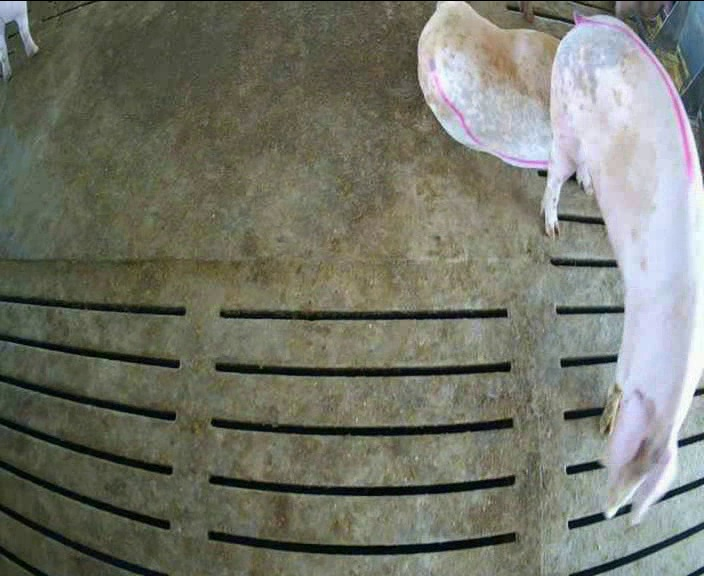pig: (543, 16, 703, 524), (418, 2, 558, 167)
